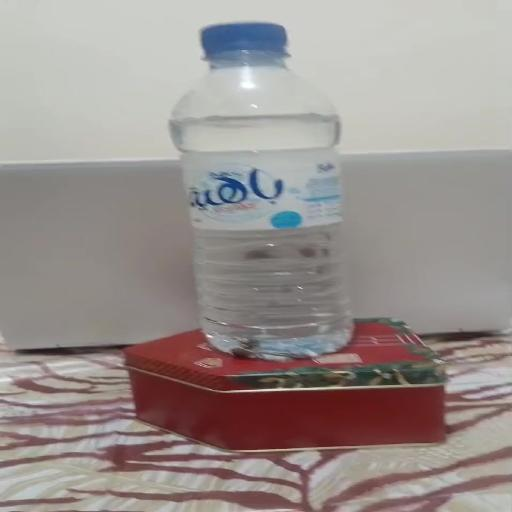bouteille conformite: (152, 20, 430, 360)
